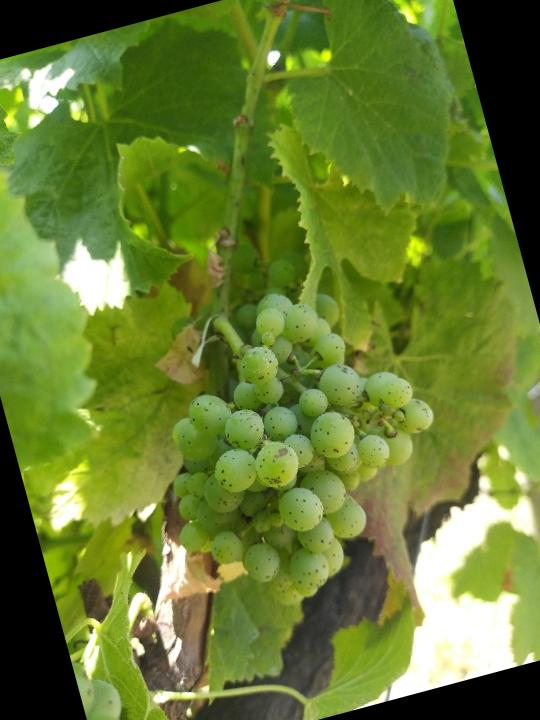grape: (123, 257, 478, 632)
